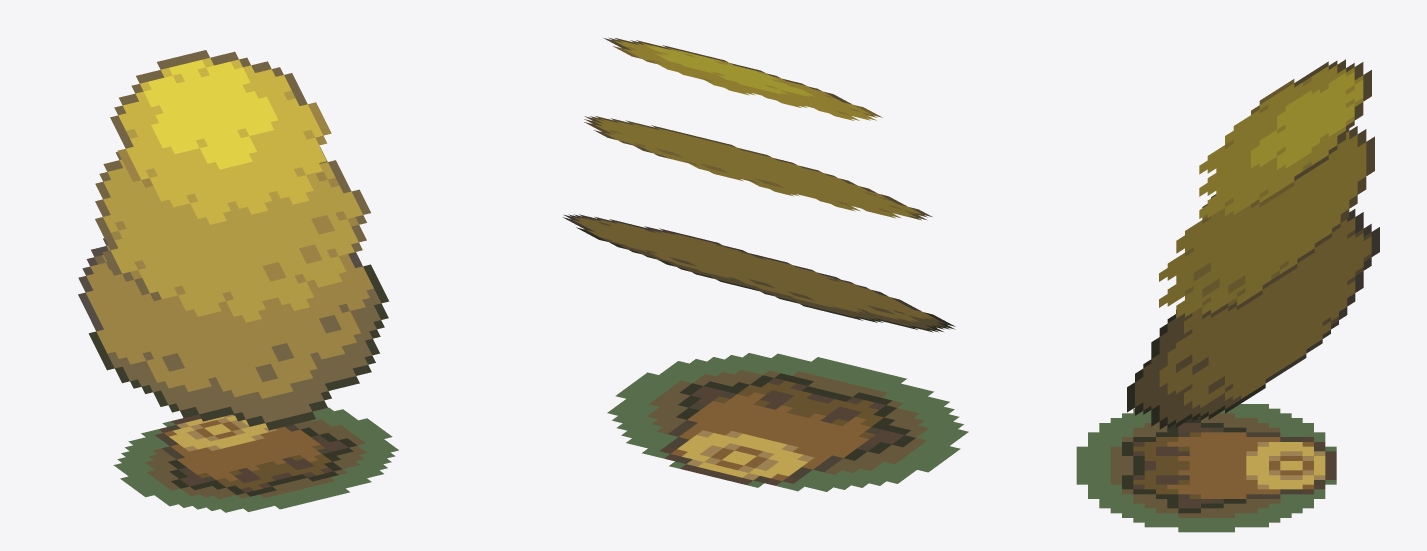
3 views of the same model, side by side, from view 1: azimuth 30°, elevation 25°; view 2: azimuth 150°, elevation 25°; view 3: azimuth 270°, elevation 25° (orthographic). The views are drawn at different scales.
Visible parts, largest first — view 1: 01_polygon1, 02_polygon2, 03_polygon3, 00_polygon0; view 2: 00_polygon0, 01_polygon1, 02_polygon2, 03_polygon3; view 3: 00_polygon0, 01_polygon1, 02_polygon2, 03_polygon3.
Boxes of the visible parts, x1,y1,x2,y2 form: 01_polygon1: [78, 238, 389, 430]; 02_polygon2: [95, 146, 370, 322]; 03_polygon3: [110, 50, 331, 224]; 00_polygon0: [113, 407, 398, 512]; 00_polygon0: [607, 353, 968, 491]; 01_polygon1: [562, 214, 955, 332]; 02_polygon2: [584, 116, 932, 220]; 03_polygon3: [603, 37, 882, 120]; 00_polygon0: [1076, 404, 1336, 532]; 01_polygon1: [1127, 209, 1379, 429]; 02_polygon2: [1159, 126, 1374, 319]; 03_polygon3: [1199, 59, 1371, 218].
Bounding box in the file's own units: 0.2812 × 0.3217 × 0.257.
1 material, 1 textured.
